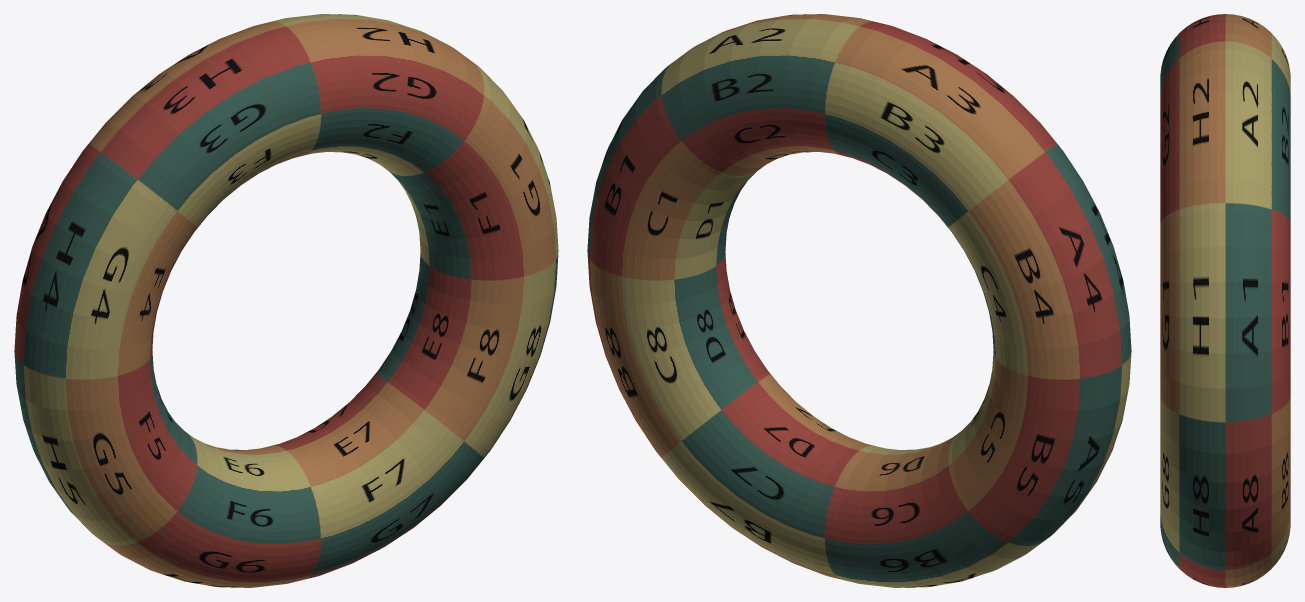
Rendered from texture_torus_R21_r19.glb.
3 views of the same model, side by side, from view 1: azimuth 30°, elevation 25°; view 2: azimuth 150°, elevation 25°; view 3: azimuth 270°, elevation 25° (orthographic). The views are drawn at different scales.
Parts seen in each view (by area): view 1: world; view 2: world; view 3: world.
Part boxes in pixels (box(x1,y1,x2,y2)): world: box(14, 14, 558, 587); world: box(587, 14, 1131, 587); world: box(1160, 14, 1290, 587).
Bounding box in the file's own units: 31.07 × 31.01 × 7.05.
Materials: 1 (1 with a texture image).
